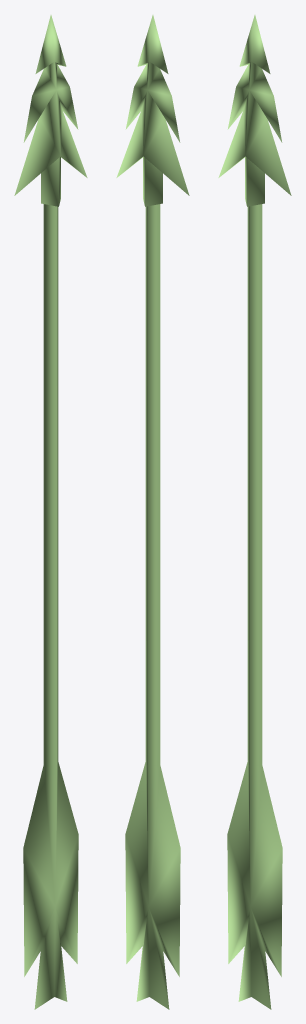
The model's file is jian.FBX.
The picture shows the model from 3 angles, left to right: view 1: azimuth 30°, elevation 25°; view 2: azimuth 150°, elevation 25°; view 3: azimuth 330°, elevation 25°; orthographic projection.
Visible parts, largest first — view 1: Object058; view 2: Object058; view 3: Object058.
Boxes of the visible parts, x1=… form: Object058: x1=14, y1=15, x2=87, y2=1009; Object058: x1=116, y1=15, x2=189, y2=1009; Object058: x1=218, y1=15, x2=291, y2=1009.
Size of the model in its own units: 4.14 by 53.5 by 1.92.
